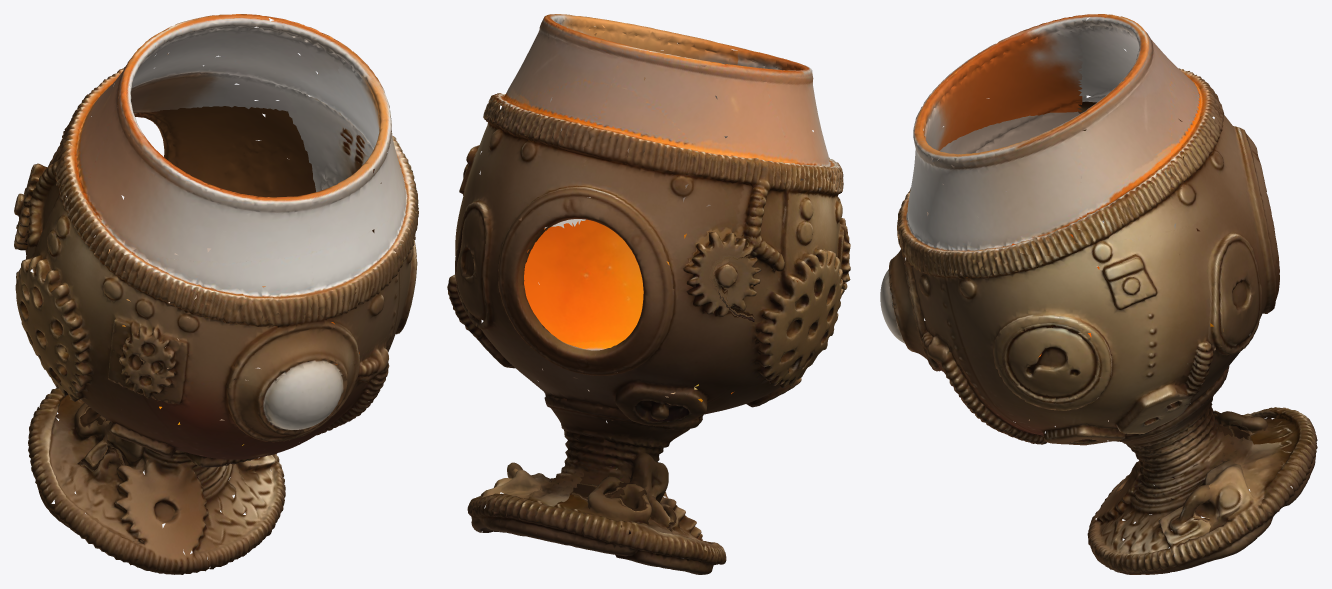
The model's file is bokal-small.glb.
3 renders of one model, left to right at view 1: azimuth 30°, elevation 25°; view 2: azimuth 150°, elevation 25°; view 3: azimuth 270°, elevation 25°, orthographic. The views are drawn at different scales.
Visible parts, largest first — view 1: model; view 2: model; view 3: model.
Part boxes in pixels (x1,y1,x2,y2): model: (14, 14, 418, 574); model: (447, 14, 850, 574); model: (880, 14, 1317, 574).
Size of the model in its own units: 1.3 by 1.89 by 1.46.
Materials: 1 (1 with a texture image).
